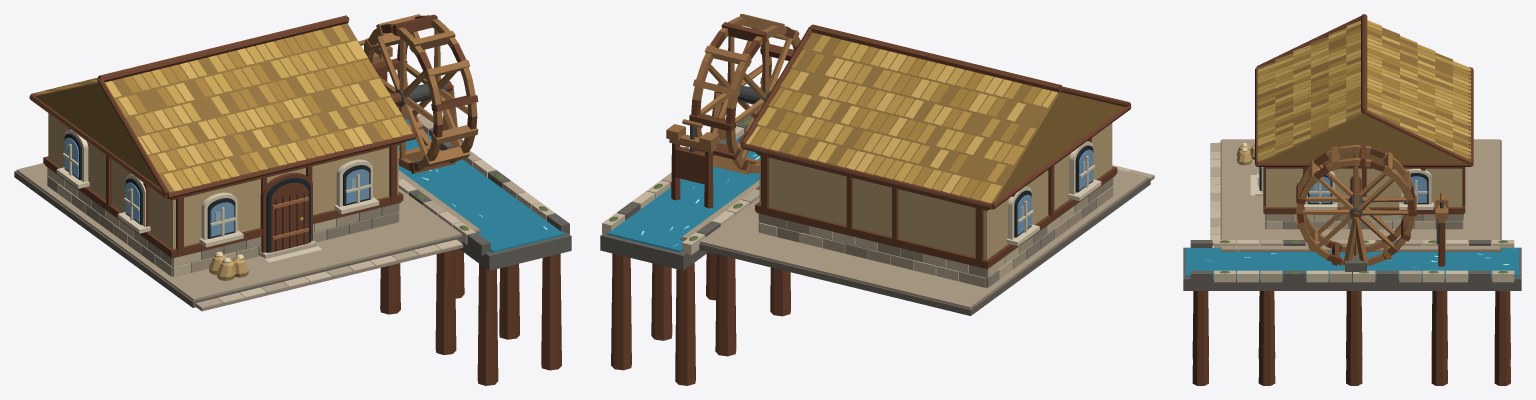
Rendered from watermill-nivel-1.glb.
The picture shows the model from 3 angles, left to right: view 1: azimuth 30°, elevation 25°; view 2: azimuth 150°, elevation 25°; view 3: azimuth 270°, elevation 25°; orthographic projection. The views are drawn at different scales.
Visible parts, largest first — view 1: Moinho 01 #70432c, Moinho 01 #92703a, Moinho 01 #b4a38a, Moinho 01 #c6aa7d, Aros e pás 1 #9f7145, Moinho 01 #ab843d, Moinho 01 #256477, Moinho 01 #c8a452, Moinho 01 #bc9549, Moinho 01 #e6d7ba, Moinho 01 #d4ae5e, Moinho 01 #6a665e (+13 smaller); view 2: Moinho 01 #70432c, Moinho 01 #92703a, Moinho 01 #c6aa7d, Moinho 01 #b4a38a, Moinho 01 #bc9549, Moinho 01 #ab843d, Aros e pás 1 #9f7145, Moinho 01 #256477, Moinho 01 #d4ae5e, Moinho 01 #c8a452, Moinho 01 #746c62, Moinho 01 #cebea0 (+9 smaller); view 3: Moinho 01 #70432c, Moinho 01 #92703a, Moinho 01 #b4a38a, Aros e pás 1 #9f7145, Moinho 01 #256477, Moinho 01 #6a665e, Moinho 01 #ab843d, Moinho 01 #bc9549, Moinho 01 #c8a452, Moinho 01 #c6aa7d, Moinho 01 #d4ae5e, Moinho 01 #d3c3a9 (+11 smaller).
Boxes of the visible parts, left/top/right/bottom form: Moinho 01 #70432c: left=29, top=15, right=561, bottom=385; Moinho 01 #92703a: left=35, top=23, right=408, bottom=192; Moinho 01 #b4a38a: left=16, top=163, right=479, bottom=300; Moinho 01 #c6aa7d: left=48, top=113, right=398, bottom=248; Aros e pás 1 #9f7145: left=364, top=14, right=478, bottom=170; Moinho 01 #ab843d: left=48, top=32, right=394, bottom=181; Moinho 01 #256477: left=398, top=118, right=564, bottom=252; Moinho 01 #c8a452: left=34, top=41, right=401, bottom=186; Moinho 01 #bc9549: left=53, top=25, right=412, bottom=188; Moinho 01 #e6d7ba: left=56, top=129, right=379, bottom=262; Moinho 01 #d4ae5e: left=79, top=40, right=372, bottom=190; Moinho 01 #6a665e: left=388, top=91, right=571, bottom=270; Moinho 01 #70432c: left=611, top=24, right=1131, bottom=385; Moinho 01 #92703a: left=750, top=32, right=1123, bottom=202; Moinho 01 #c6aa7d: left=759, top=123, right=1112, bottom=259; Moinho 01 #b4a38a: left=681, top=169, right=1148, bottom=308; Moinho 01 #bc9549: left=760, top=35, right=1035, bottom=195; Moinho 01 #ab843d: left=751, top=39, right=1040, bottom=200; Aros e pás 1 #9f7145: left=692, top=14, right=800, bottom=174; Moinho 01 #256477: left=607, top=134, right=759, bottom=252; Moinho 01 #d4ae5e: left=746, top=51, right=1057, bottom=193; Moinho 01 #c8a452: left=757, top=42, right=1050, bottom=202; Moinho 01 #746c62: left=679, top=178, right=1150, bottom=315; Moinho 01 #cebea0: left=759, top=206, right=1074, bottom=281; Moinho 01 #70432c: left=1192, top=14, right=1510, bottom=385; Moinho 01 #92703a: left=1257, top=22, right=1470, bottom=162; Moinho 01 #b4a38a: left=1221, top=139, right=1500, bottom=250; Aros e pás 1 #9f7145: left=1296, top=144, right=1414, bottom=265; Moinho 01 #256477: left=1185, top=247, right=1519, bottom=276; Moinho 01 #6a665e: left=1183, top=240, right=1521, bottom=290; Moinho 01 #ab843d: left=1257, top=26, right=1470, bottom=158; Moinho 01 #bc9549: left=1257, top=31, right=1470, bottom=161; Moinho 01 #c8a452: left=1257, top=23, right=1470, bottom=156; Moinho 01 #c6aa7d: left=1266, top=168, right=1462, bottom=207; Moinho 01 #d4ae5e: left=1257, top=20, right=1470, bottom=160; Moinho 01 #d3c3a9: left=1210, top=151, right=1514, bottom=282.
Size of the model in its own units: 9.52 by 7.5 by 9.77.
